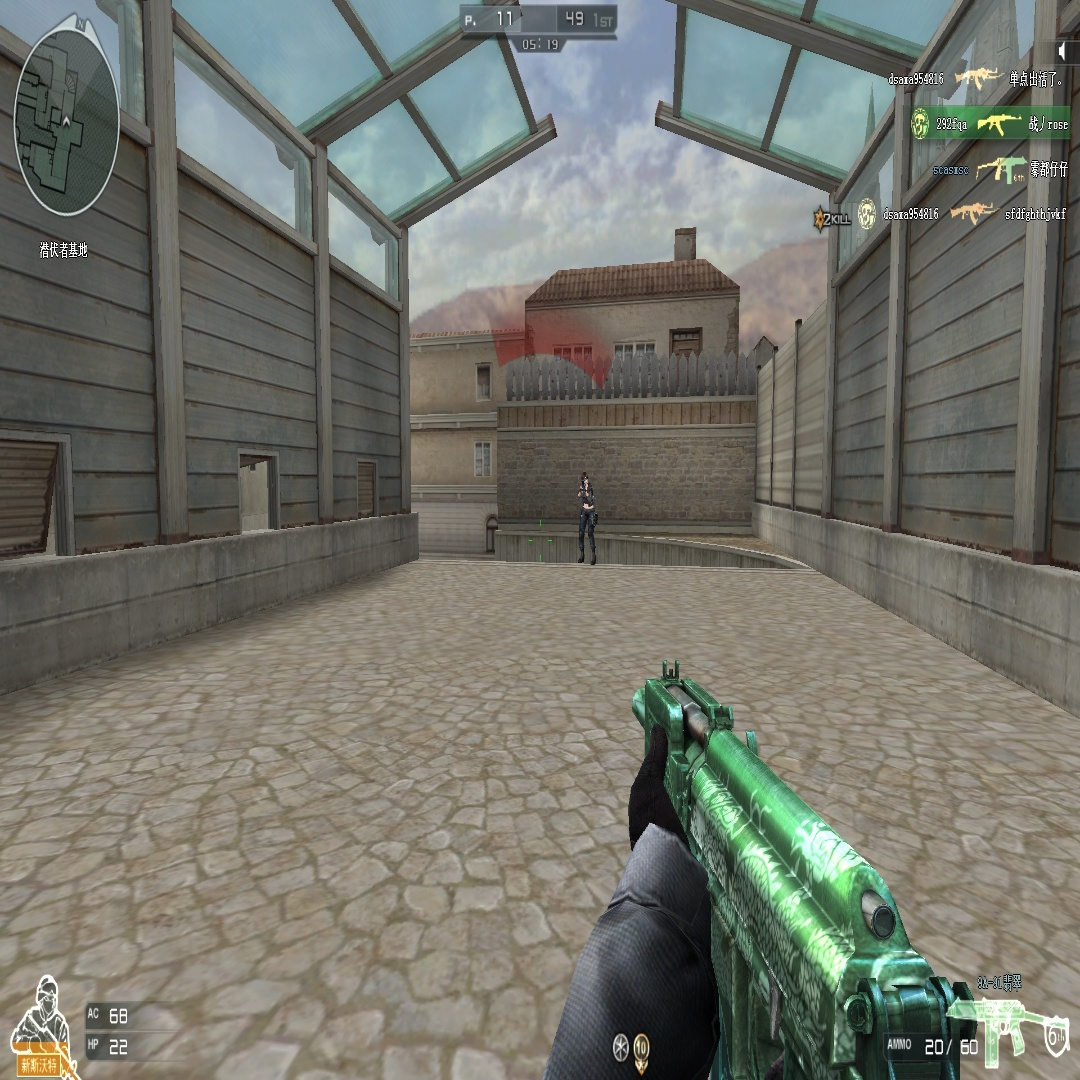p: (577, 471, 597, 565)
